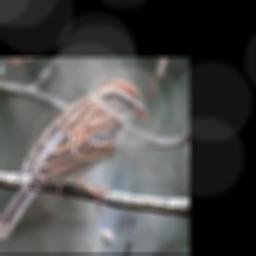Sparrow: (0, 79, 150, 239)
